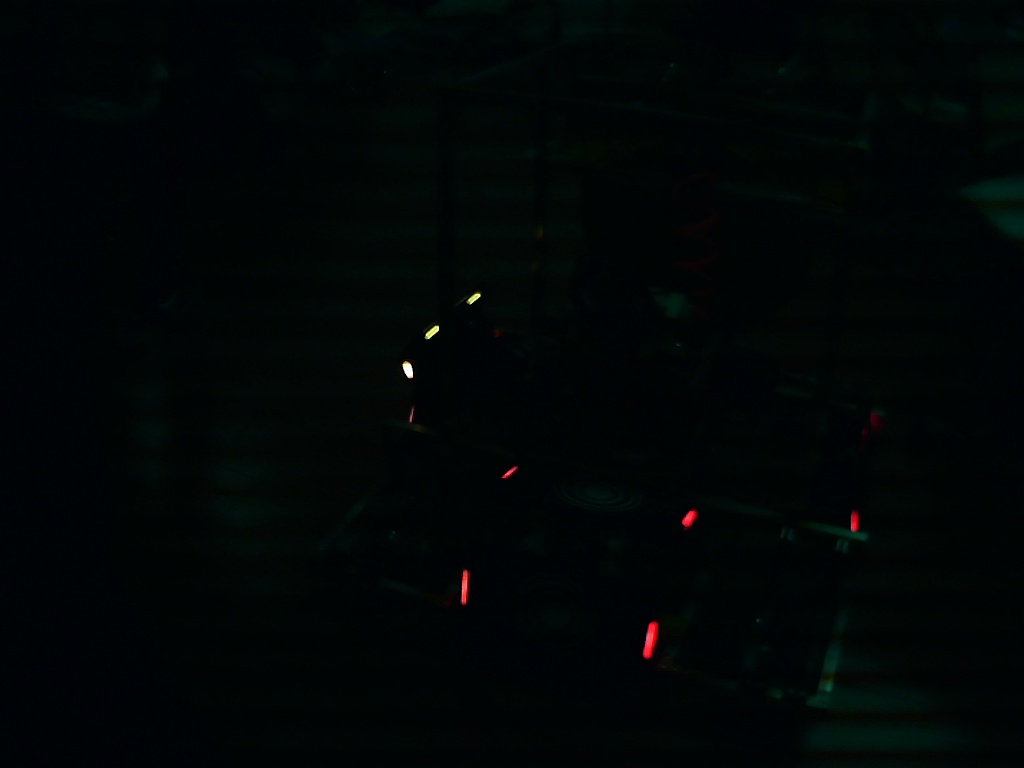lamp: (641, 619, 661, 662), (459, 568, 470, 606)
